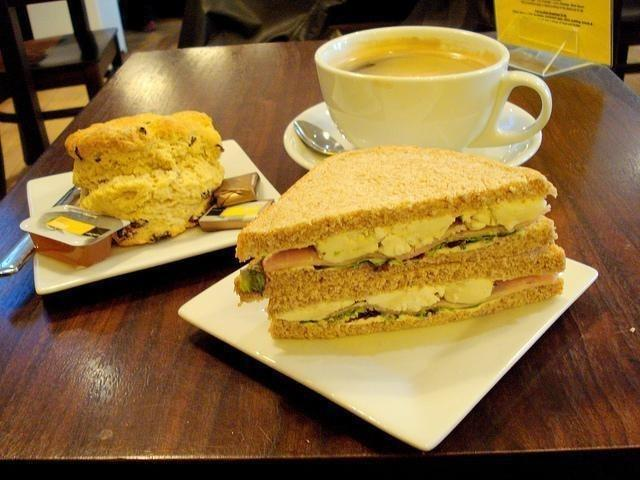cup-handle: (314, 24, 555, 150)
